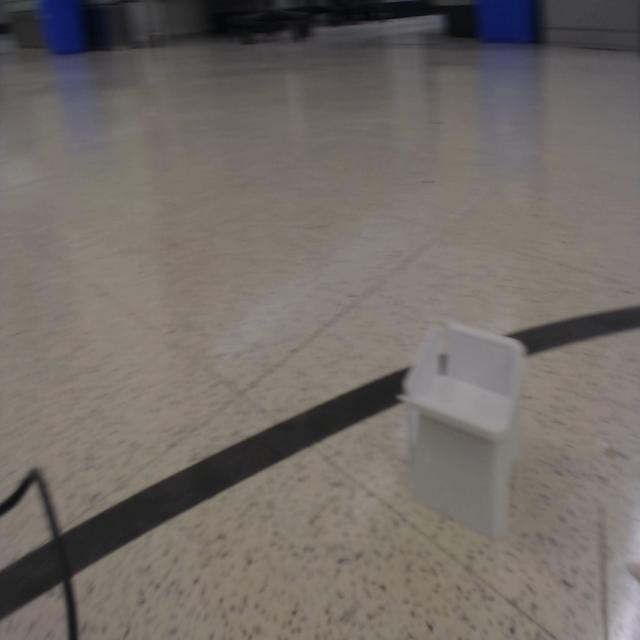wbox: (394, 310, 528, 542)
